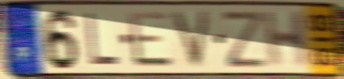6: (42, 7, 83, 72)
E: (126, 9, 176, 69)
H: (261, 8, 311, 70)
L: (84, 11, 122, 68)
V: (168, 8, 213, 71)
Z: (220, 9, 269, 70)
